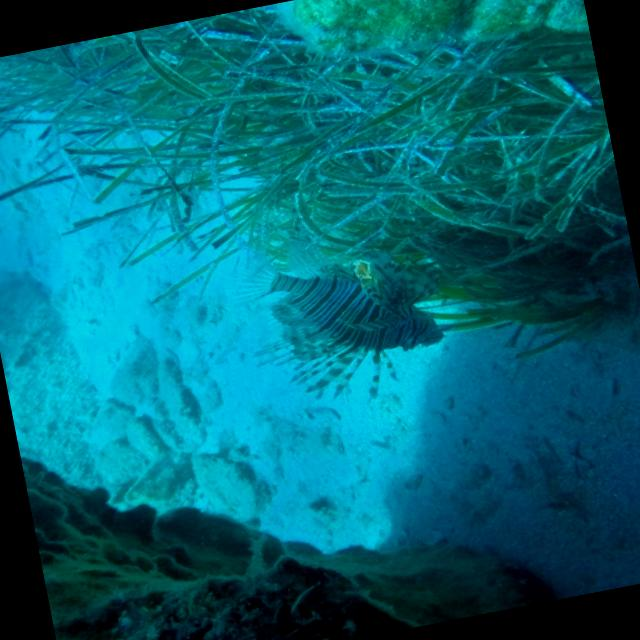Aslan Baligi: (236, 232, 452, 420)
